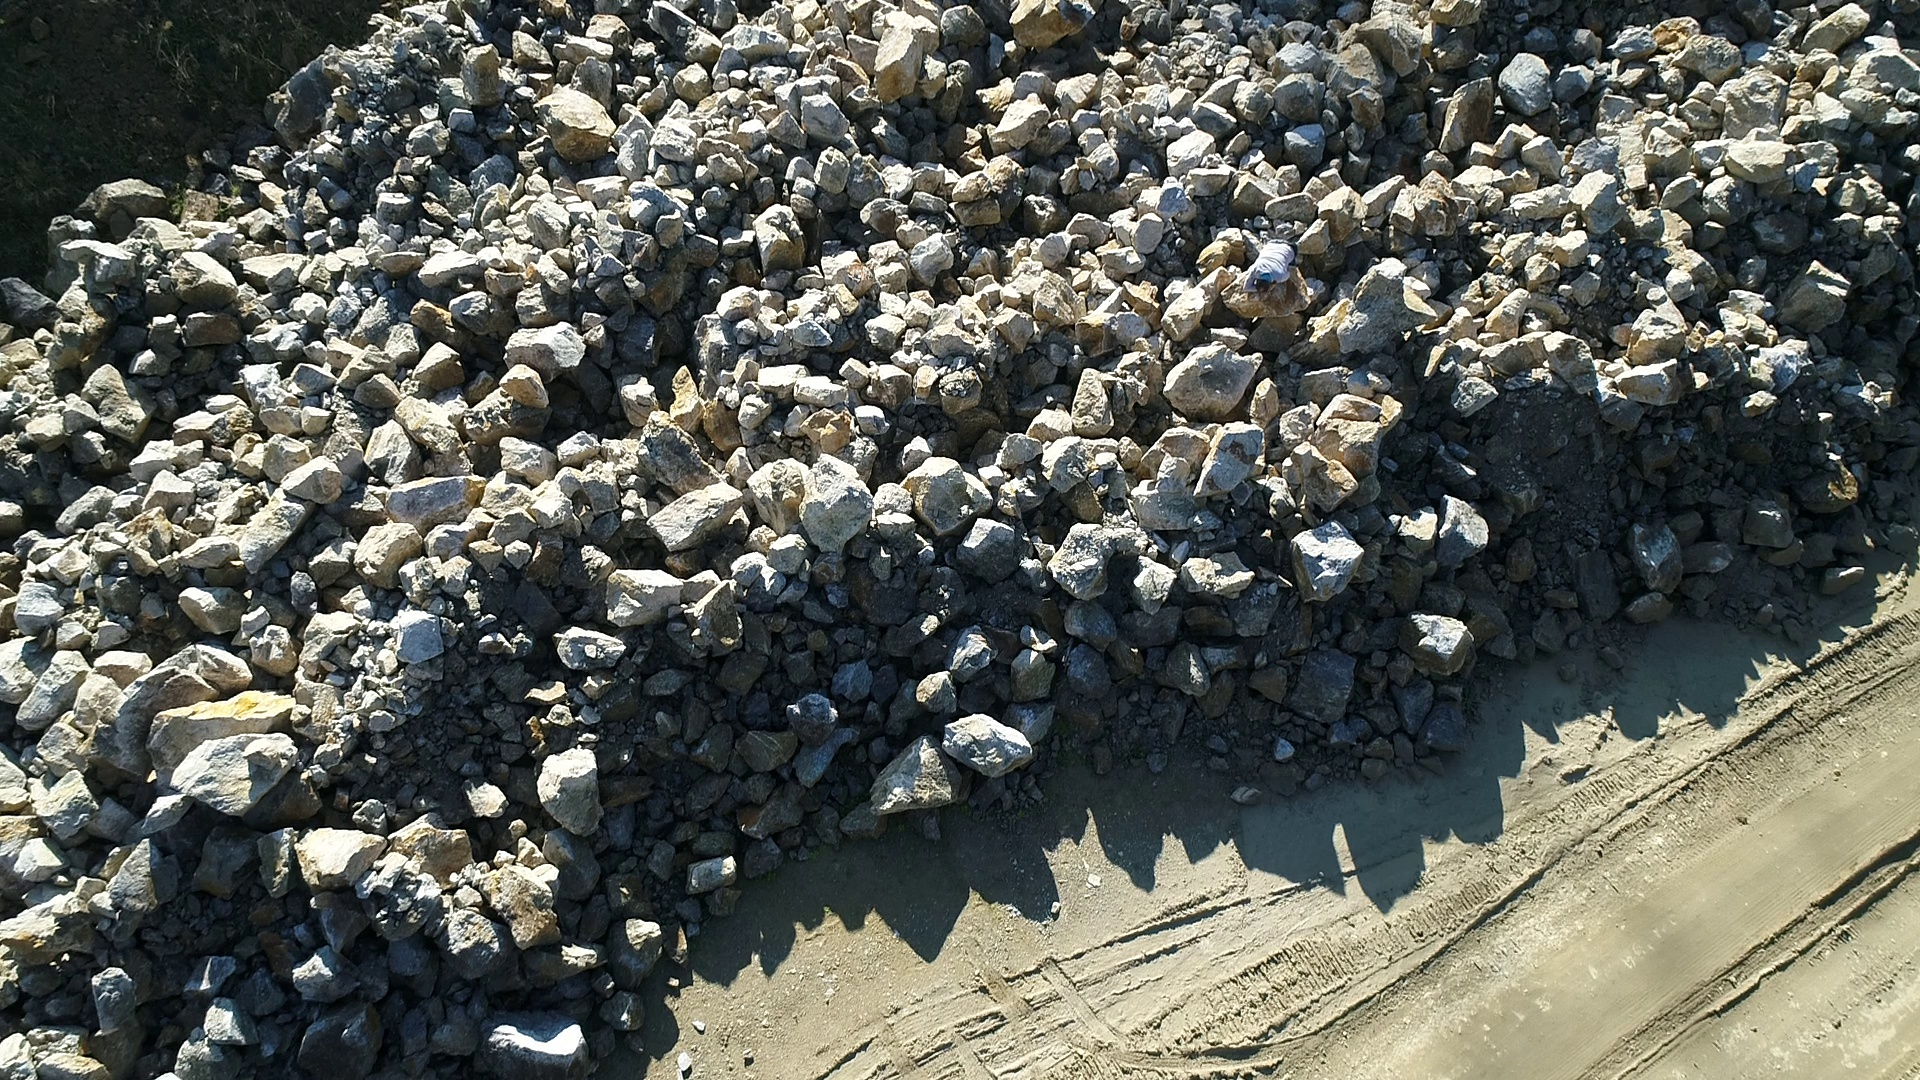person: (1237, 236, 1300, 300)
